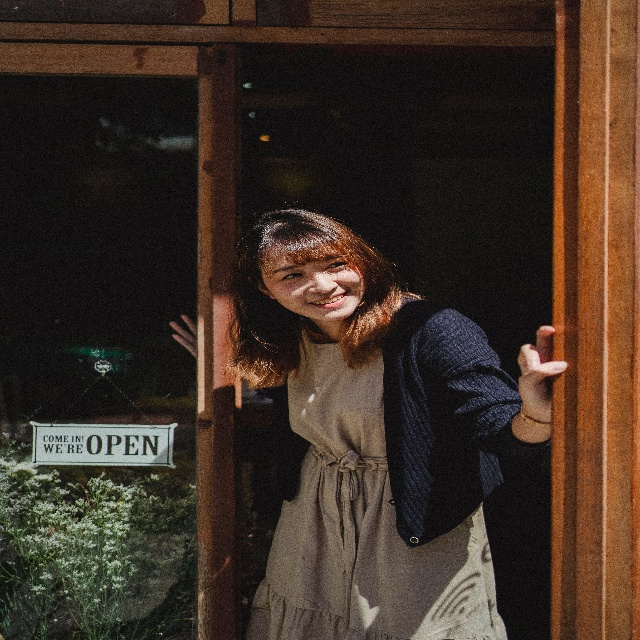Sin_guantes: (517, 340, 568, 425), (169, 307, 197, 354)
